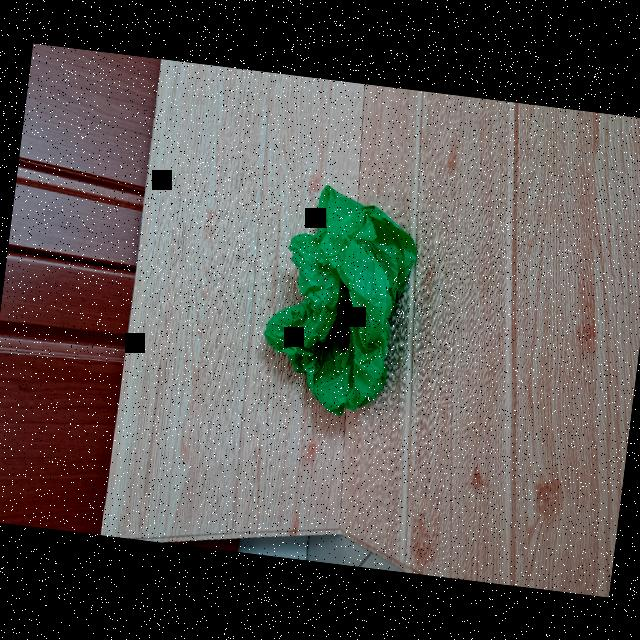plastic_bag: (256, 188, 424, 420)
